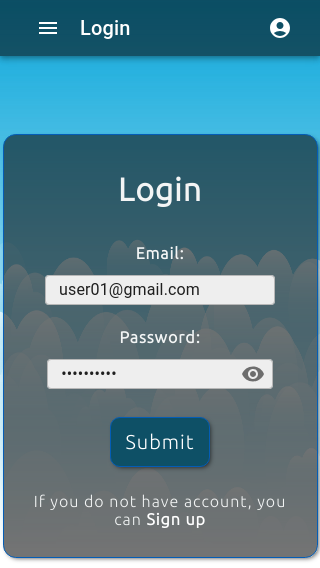
it: weather app test › tests if there is only login/signup option if visitior is not authenticated
Click the button named "account of current user": coordinates (280, 28) x1=256 y1=4 x2=304 y2=52
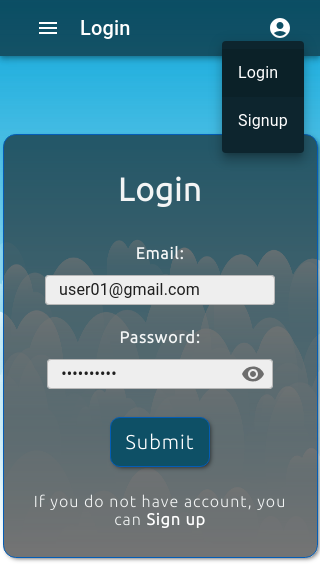
Result: the number of menu items is 2 at x1=222 y1=49 x2=304 y2=97; x1=238 y1=111 x2=288 y2=130
Result: the menu item "Login" is shown at x1=222 y1=49 x2=304 y2=97
Result: the menu item "Signup" is shown at x1=238 y1=111 x2=288 y2=130
